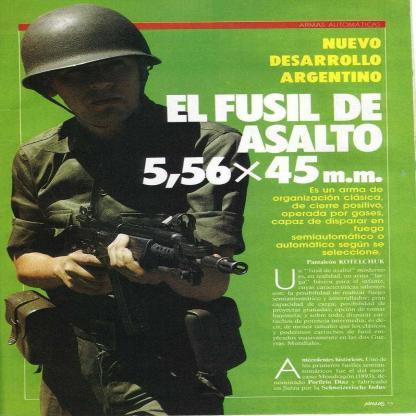Heavy Gun: (65, 202, 243, 296)
Person: (14, 12, 244, 416)
